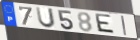5: (57, 9, 75, 31)
7: (17, 6, 33, 26)
8: (77, 11, 94, 33)
E: (95, 13, 117, 35)
I: (120, 15, 128, 36)
U: (35, 6, 57, 29)
